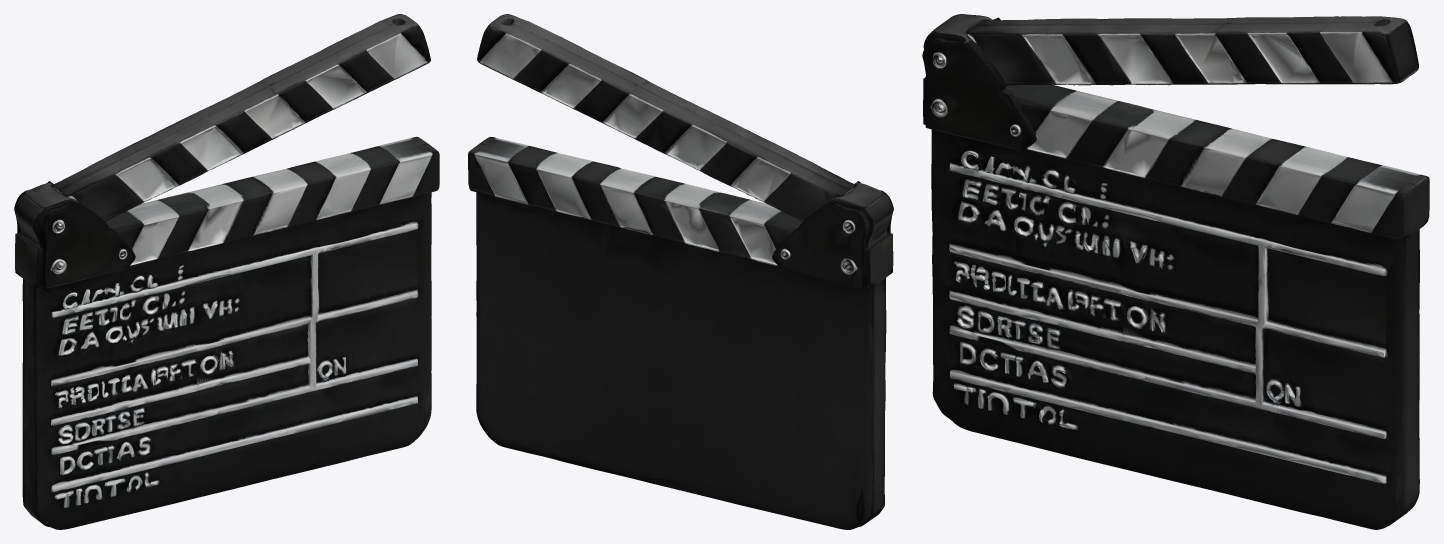
Rendered from clapperboard.glb.
3 views of the same model, side by side, from view 1: azimuth 30°, elevation 25°; view 2: azimuth 150°, elevation 25°; view 3: azimuth 330°, elevation 25° (orthographic). The views are drawn at different scales.
Parts seen in each view (by area): view 1: node_5c6cb81a-cfba-4de7-8428-c6781da9dec2; view 2: node_5c6cb81a-cfba-4de7-8428-c6781da9dec2; view 3: node_5c6cb81a-cfba-4de7-8428-c6781da9dec2.
Boxes of the visible parts, left/top/right/bottom form: node_5c6cb81a-cfba-4de7-8428-c6781da9dec2: left=14, top=14, right=439, bottom=529; node_5c6cb81a-cfba-4de7-8428-c6781da9dec2: left=468, top=14, right=893, bottom=529; node_5c6cb81a-cfba-4de7-8428-c6781da9dec2: left=922, top=14, right=1429, bottom=529.
Bounding box in the file's own units: 0.9772 × 0.9714 × 0.1378.
Materials: 1 (1 with a texture image).
